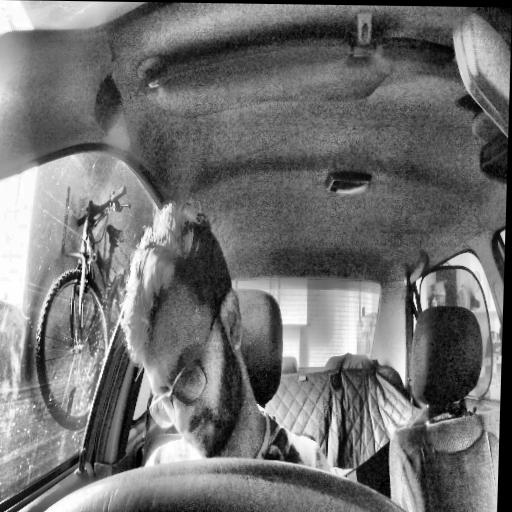drowsy: (118, 195, 253, 462)
